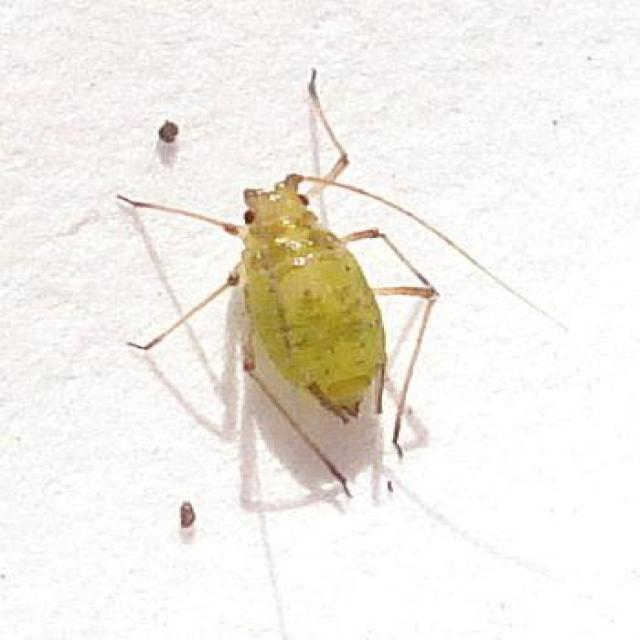Aphids: (95, 100, 530, 486)
